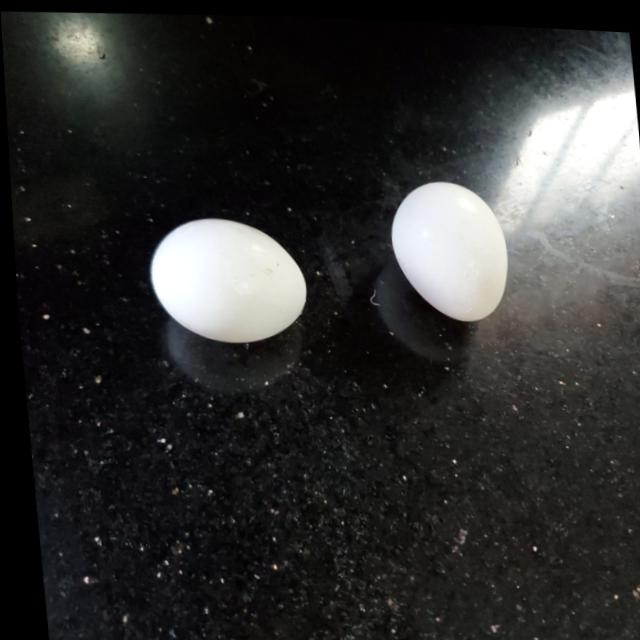egg: (139, 211, 308, 351), (382, 164, 513, 322)
